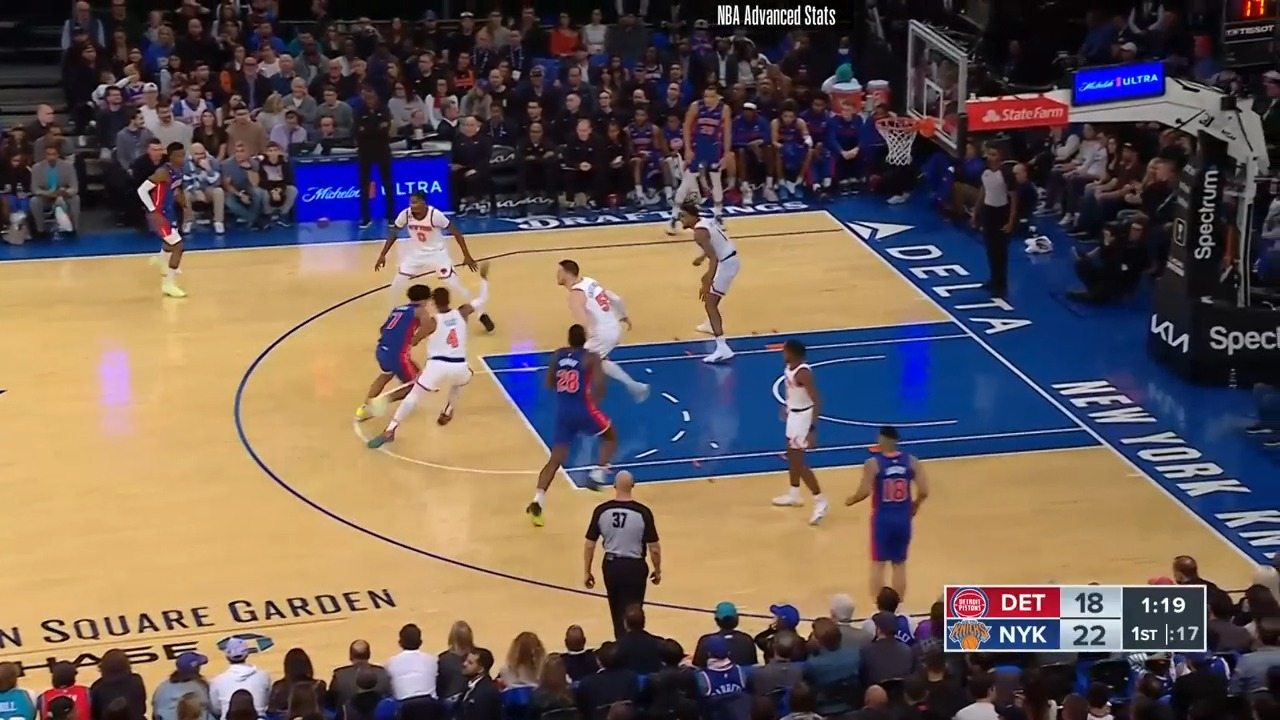net: (876, 106, 937, 168)
player: (525, 317, 642, 531), (366, 256, 491, 456), (372, 190, 497, 333), (842, 426, 927, 614), (553, 252, 650, 404), (769, 334, 840, 524), (350, 280, 439, 431), (665, 197, 743, 351), (671, 83, 740, 241), (132, 139, 194, 304)
referee: (585, 486, 670, 646), (968, 143, 1023, 307)
